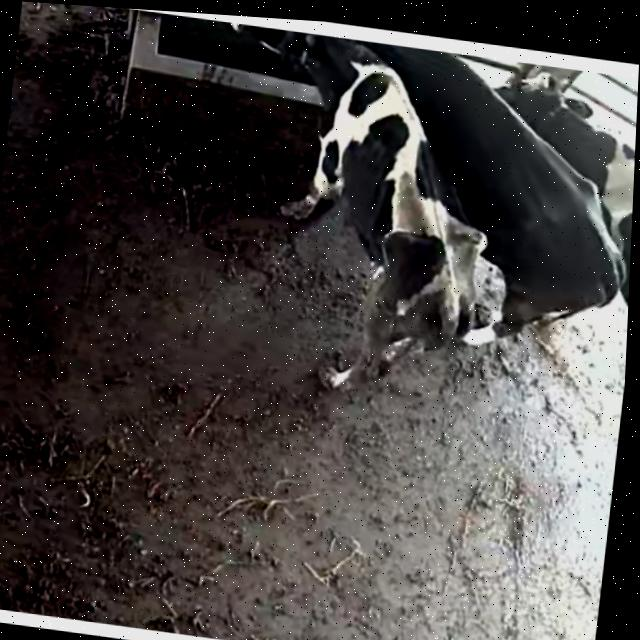drink: (322, 35, 441, 96)
